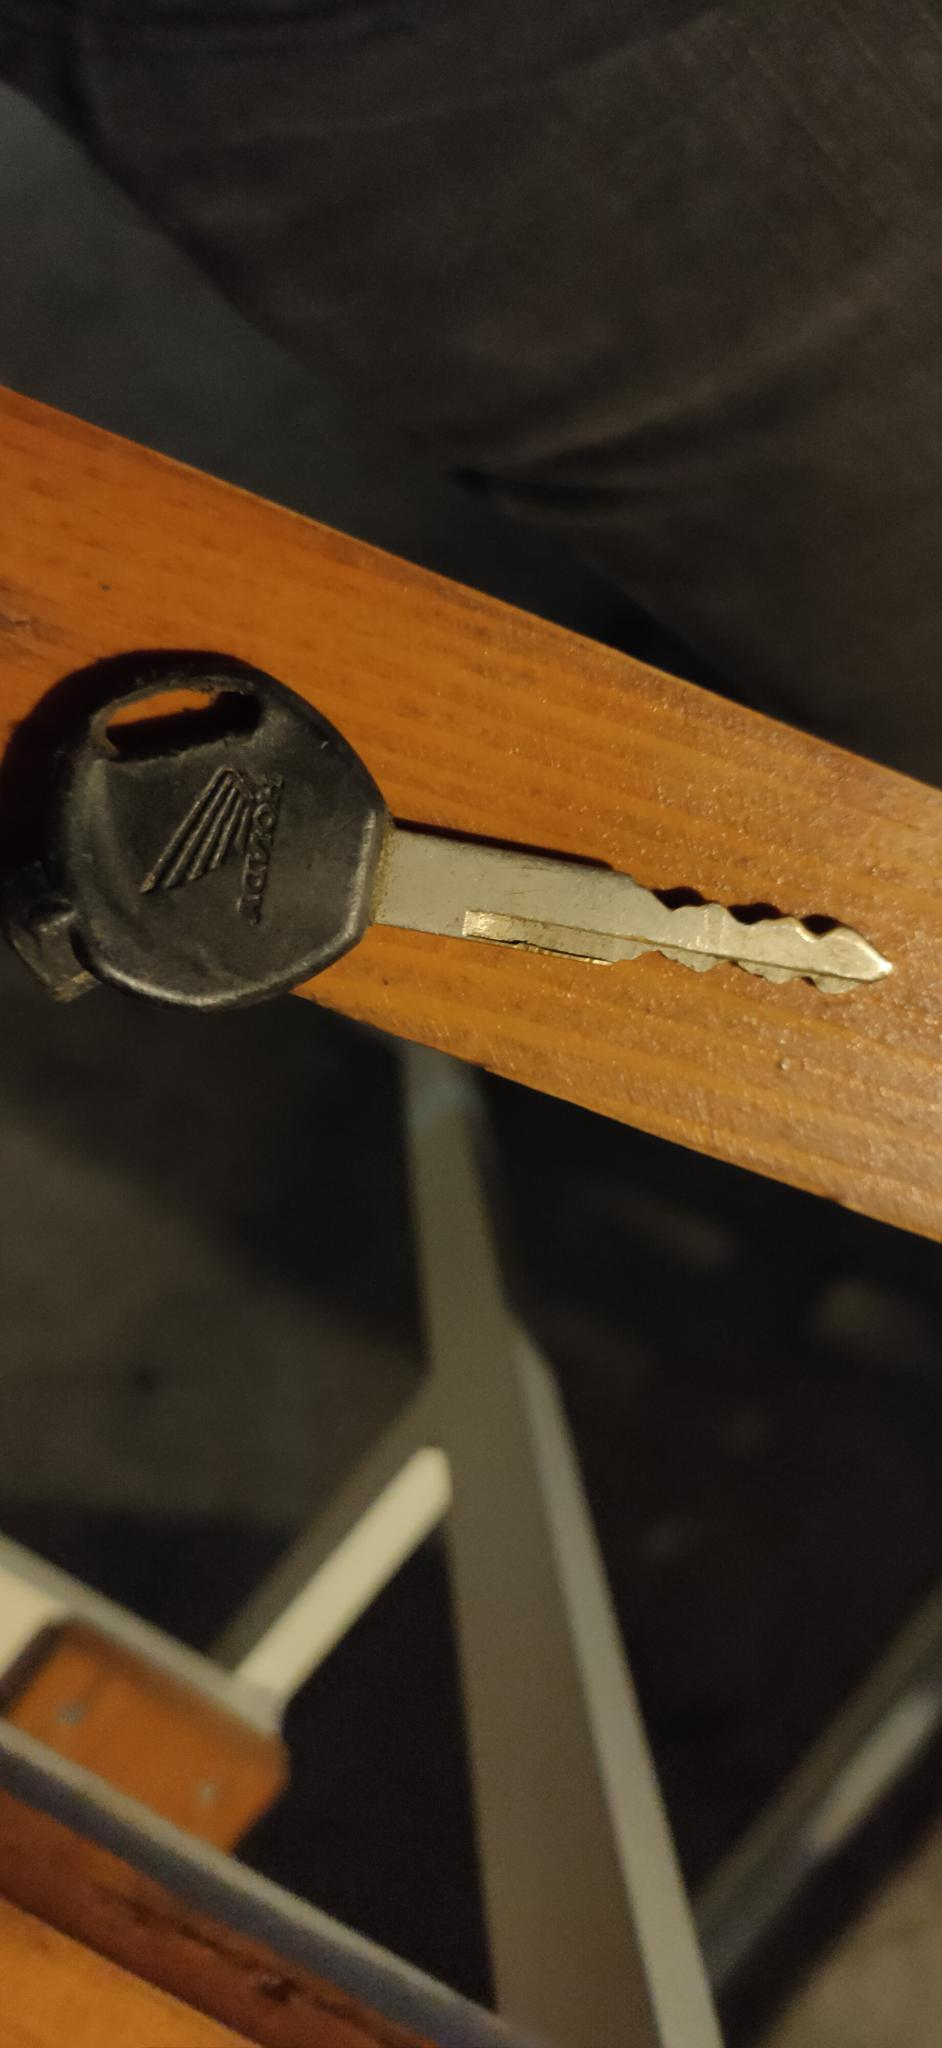keys: (12, 645, 896, 1033)
